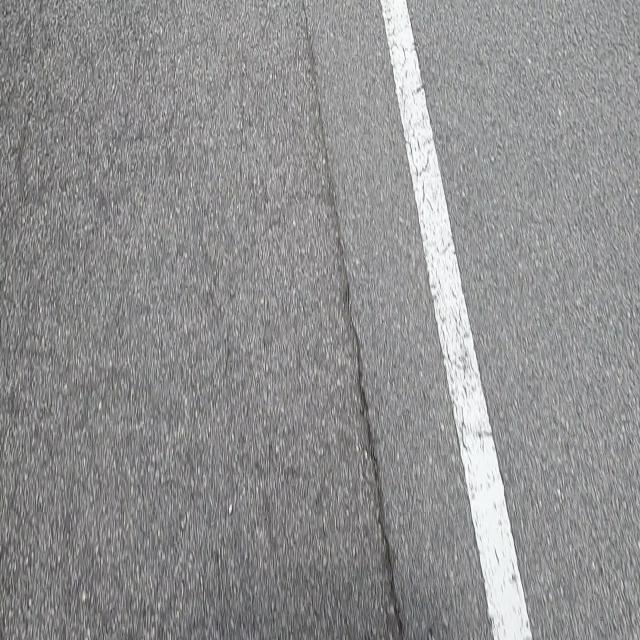Retak-Memanjang: (301, 1, 405, 637)
